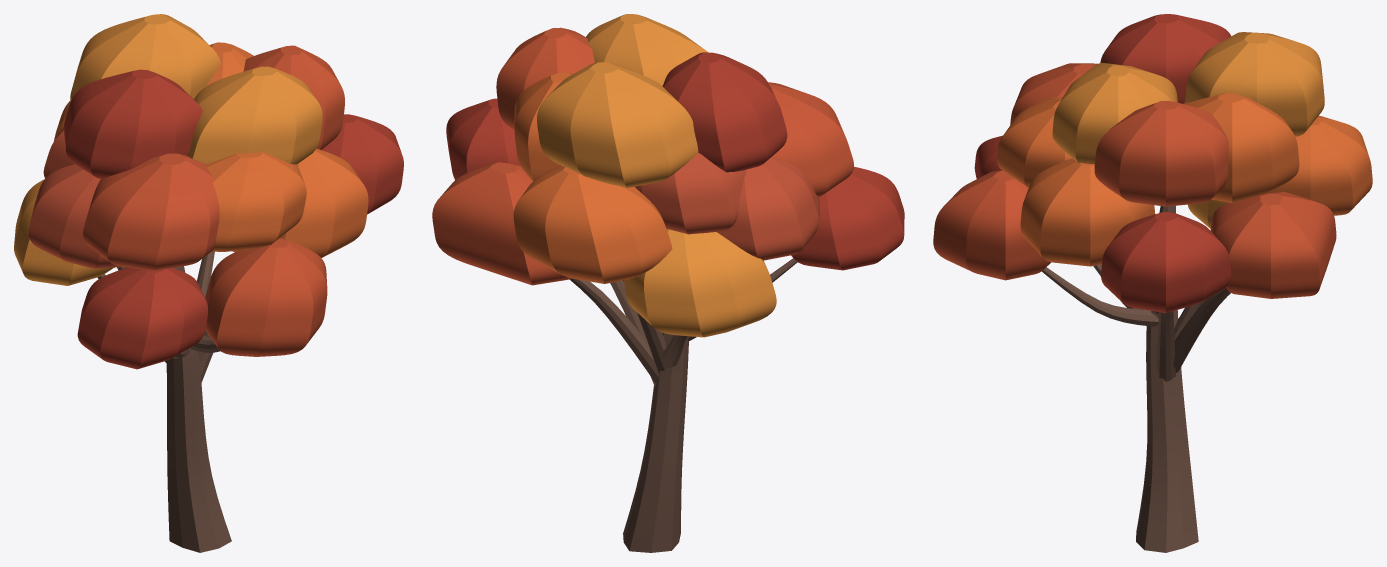
Rendered from autumn_maple.glb.
3 renders of one model, left to right at view 1: azimuth 30°, elevation 25°; view 2: azimuth 150°, elevation 25°; view 3: azimuth 270°, elevation 25°, orthographic. The views are drawn at different scales.
Visible parts, largest first — view 1: Maple leaves 6.2, Maple leaves 7.1, Maple leaves 5.2, Maple leaves 6.1, Maple leaves 8.2, Maple trunk, Maple leaves 7.2, Maple leaves 3.2, Maple leaves 8.1, Maple leaves 5.1, Maple leaves 1.1, Maple leaves 1.2 (+4 smaller); view 2: Maple leaves 3.2, Maple leaves 3.1, Maple leaves 4.1, Maple leaves 5.2, Maple leaves 2.1, Maple trunk, Maple leaves 6.1, Maple leaves 5.1, Maple leaves 4.2, Maple leaves 6.2, Maple leaves 8.2, Maple leaves 1.2 (+5 smaller); view 3: Maple leaves 1.2, Maple leaves 2.1, Maple leaves 1.1, Maple trunk, Maple leaves 3.2, Maple leaves 8.1, Maple leaves 7.1, Maple leaves 2.2, Maple leaves 8.2, Maple leaves 3.1, Maple leaves 5.2, Maple leaves 7.2 (+6 smaller).
Boxes of the visible parts, left/top/right/bottom form: Maple leaves 6.2: left=83, top=153, right=219, bottom=270; Maple leaves 7.1: left=205, top=238, right=327, bottom=356; Maple leaves 5.2: left=64, top=69, right=202, bottom=178; Maple leaves 6.1: left=77, top=267, right=207, bottom=369; Maple leaves 8.2: left=188, top=66, right=322, bottom=164; Maple trunk: left=166, top=266, right=231, bottom=552; Maple leaves 7.2: left=206, top=152, right=306, bottom=251; Maple leaves 3.2: left=70, top=14, right=220, bottom=101; Maple leaves 8.1: left=233, top=148, right=368, bottom=257; Maple leaves 5.1: left=28, top=164, right=123, bottom=268; Maple leaves 1.1: left=321, top=114, right=403, bottom=214; Maple leaves 1.2: left=243, top=45, right=344, bottom=149; Maple leaves 3.2: left=537, top=62, right=698, bottom=187; Maple leaves 3.1: left=513, top=165, right=672, bottom=283; Maple leaves 4.1: left=624, top=229, right=776, bottom=337; Maple leaves 5.2: left=662, top=52, right=787, bottom=172; Maple leaves 2.1: left=432, top=162, right=571, bottom=285; Maple trunk: left=623, top=332, right=688, bottom=552; Maple leaves 6.1: left=791, top=166, right=904, bottom=270; Maple leaves 5.1: left=717, top=156, right=819, bottom=260; Maple leaves 4.2: left=634, top=152, right=746, bottom=234; Maple leaves 6.2: left=768, top=82, right=853, bottom=196; Maple leaves 8.2: left=586, top=14, right=707, bottom=85; Maple leaves 1.2: left=496, top=27, right=594, bottom=129; Maple leaves 1.2: left=1094, top=101, right=1228, bottom=206; Maple leaves 2.1: left=1210, top=192, right=1336, bottom=298; Maple leaves 1.1: left=1101, top=212, right=1231, bottom=312; Maple trunk: left=1136, top=205, right=1198, bottom=552; Maple leaves 3.2: left=1185, top=32, right=1324, bottom=136; Maple leaves 8.1: left=1020, top=158, right=1155, bottom=266; Maple leaves 7.1: left=933, top=170, right=1050, bottom=280; Maple leaves 2.2: left=1184, top=93, right=1299, bottom=202; Maple leaves 8.2: left=1052, top=63, right=1177, bottom=164; Maple leaves 3.1: left=1267, top=115, right=1372, bottom=215; Maple leaves 5.2: left=1100, top=14, right=1231, bottom=103; Maple leaves 7.2: left=997, top=97, right=1071, bottom=187.
Bounding box in the file's own units: 5.55 × 7 × 5.56.
